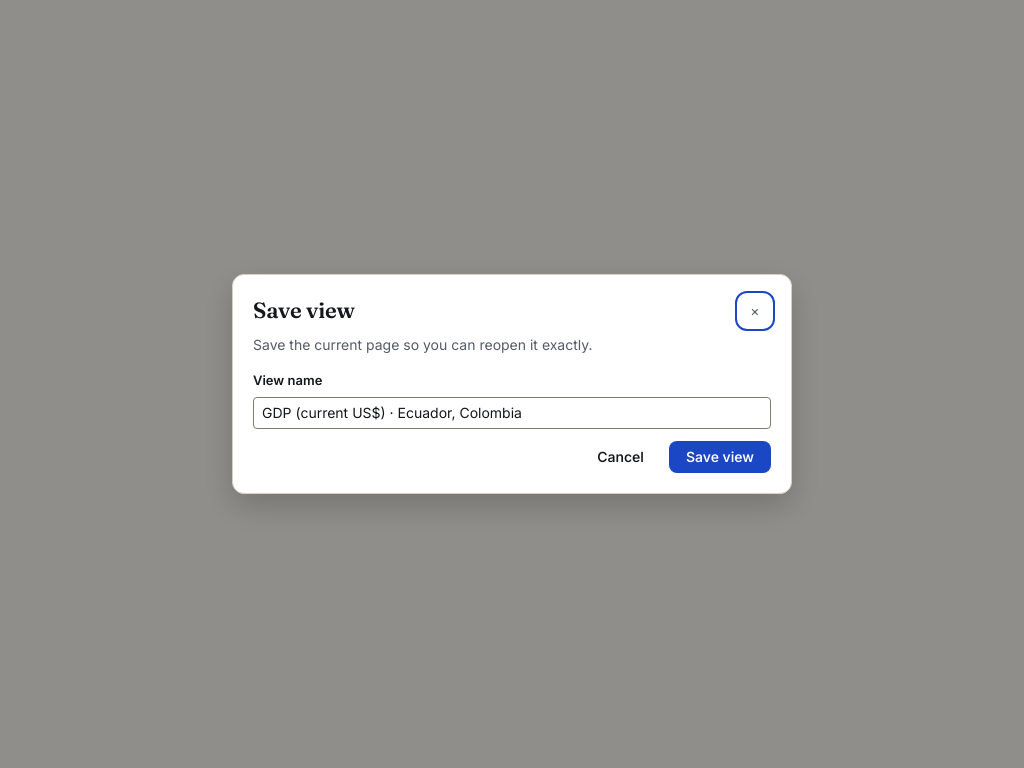
Scenario: SaveViewDialog › explains the 200-view limit before creating
Check: the field labelled "View name" is not empty, box [253,397,771,429]
Click the button "Save view" at (720, 457), box [669,441,771,473]
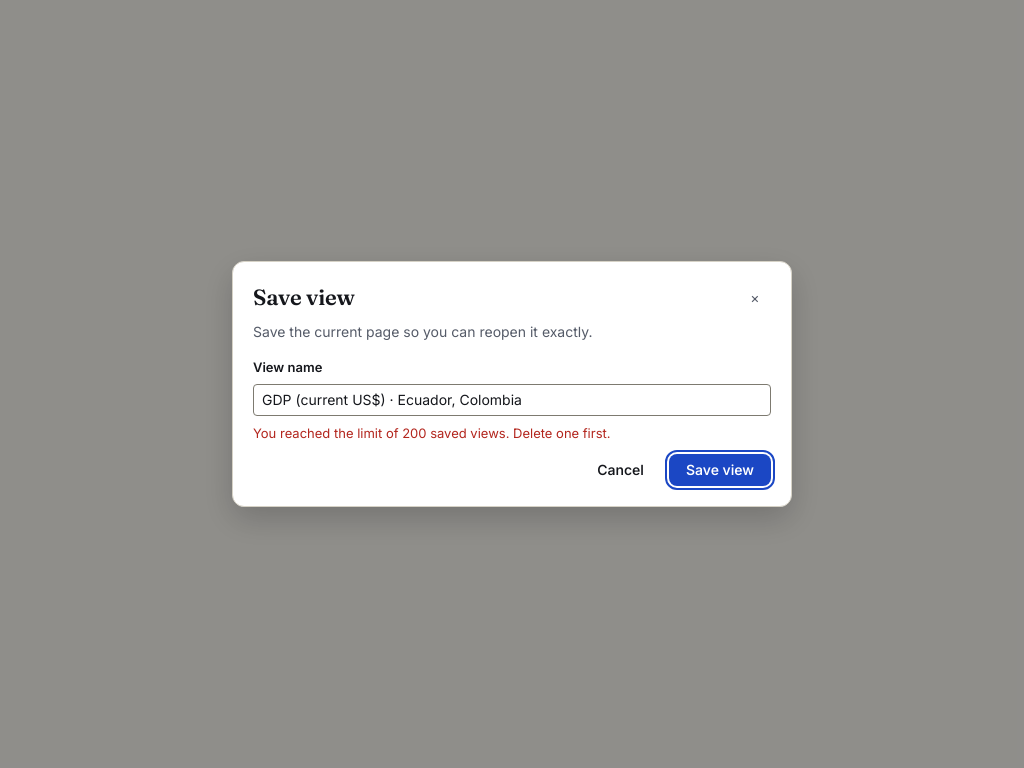
Check: the message shows "limit of 200 saved views", box [253,425,610,441]
